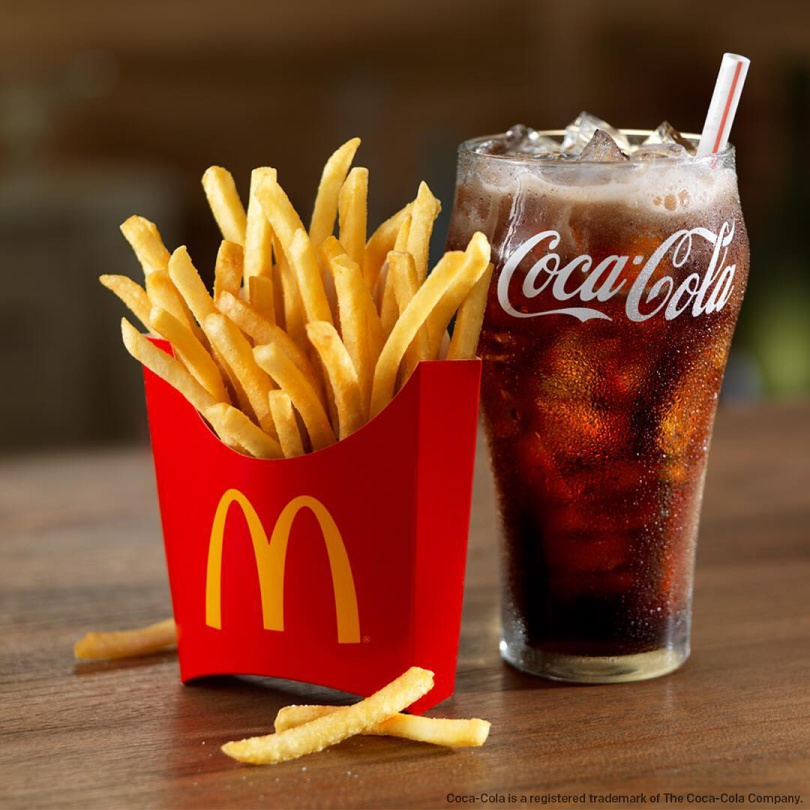mcdonalds: (191, 478, 366, 653)
